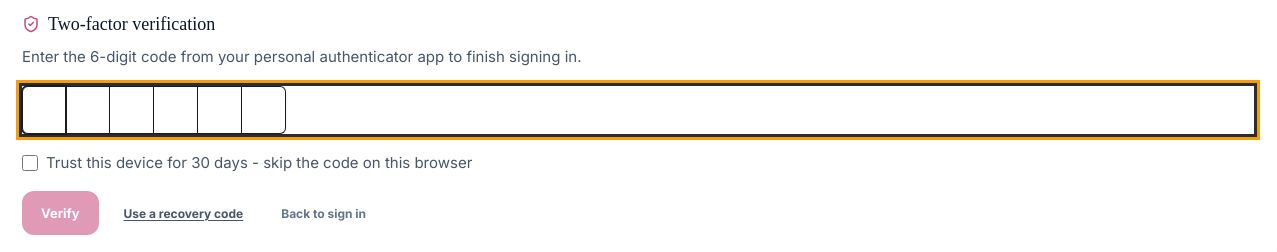
Test case: MfaLoginStep recovery-code warning › shows an explicit message when no recovery codes remain
The width and height of the screenshot is (1277, 252).
Click the button "Use a recovery code". click: (183, 213)
box: [110, 195, 256, 231]
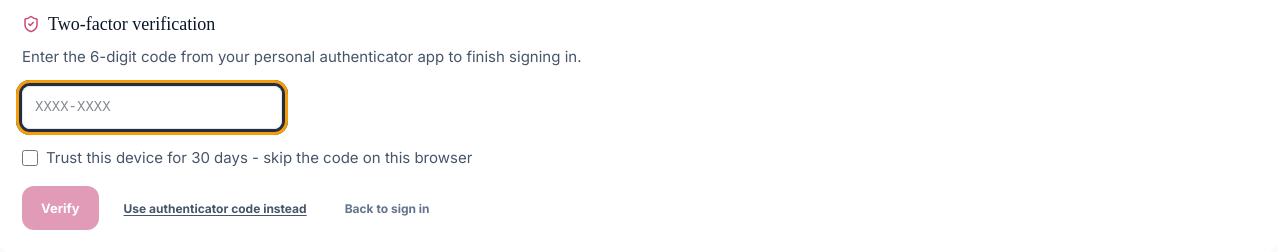
Type "AAAA-BBBB" into the field with placeholder "XXXX-XXXX". click: (152, 107)
box: [22, 86, 282, 129]
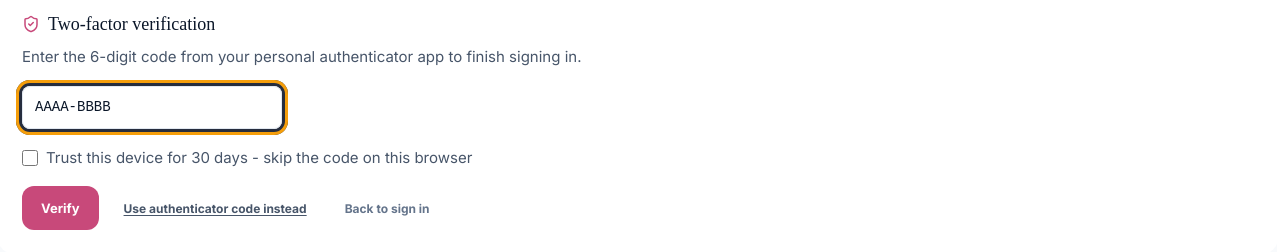
Click the button "Verify". click: (60, 208)
box: [22, 186, 98, 230]
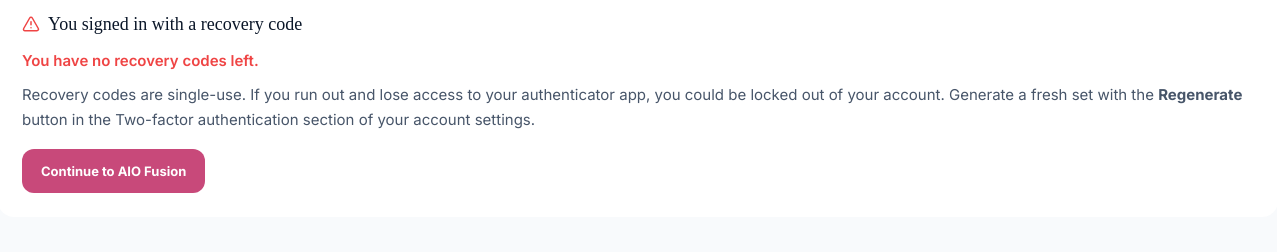
Result: the text "You have no recovery codes left." is shown at [22, 51, 259, 70]
